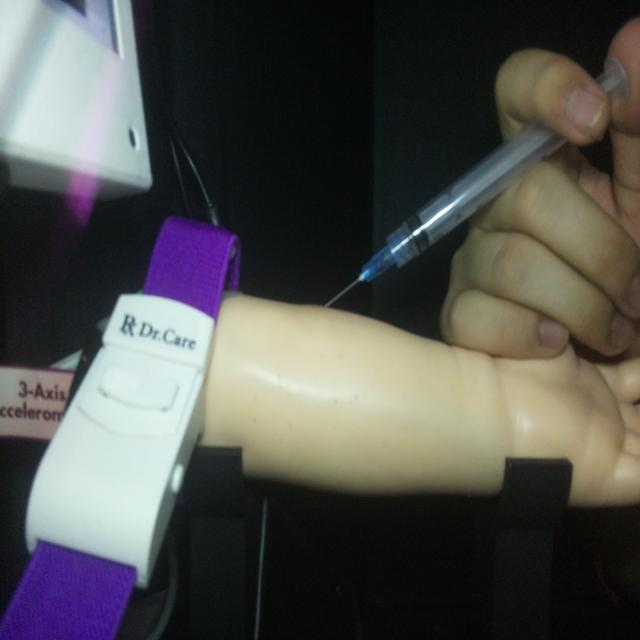29 degrees: (324, 51, 632, 309)
